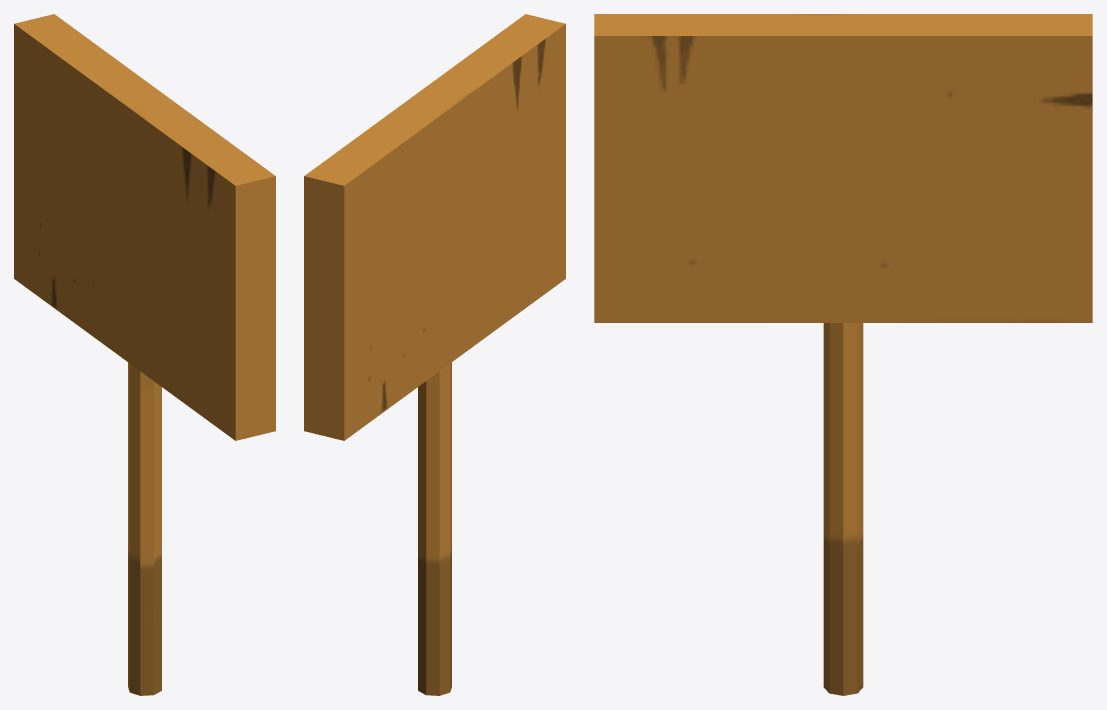
Rendered from sign.fbx.
The picture shows the model from 3 angles, left to right: view 1: azimuth 30°, elevation 25°; view 2: azimuth 150°, elevation 25°; view 3: azimuth 270°, elevation 25°; orthographic projection. The views are drawn at different scales.
Parts seen in each view (by area): view 1: Cylinder; view 2: Cylinder; view 3: Cylinder.
Boxes of the visible parts, x1=… form: Cylinder: x1=14, y1=14, x2=275, y2=695; Cylinder: x1=304, y1=14, x2=565, y2=695; Cylinder: x1=594, y1=14, x2=1092, y2=695.
Size of the model in its own units: 65.99 by 923 by 630.
